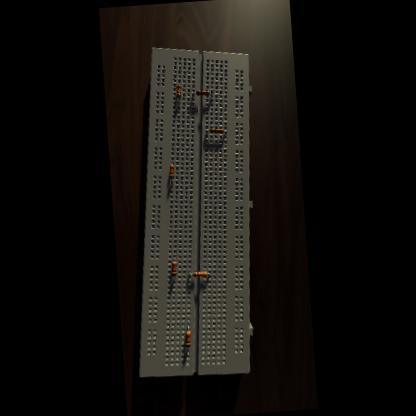breadboard: (115, 40, 271, 380)
resistor: (184, 329, 192, 346), (170, 260, 177, 275), (196, 88, 209, 96), (210, 126, 223, 134), (168, 164, 174, 178), (176, 84, 182, 98), (192, 270, 206, 276)
wire: (192, 92, 196, 96), (170, 178, 172, 183), (174, 256, 176, 260), (209, 92, 211, 96), (189, 272, 192, 274), (206, 271, 209, 273), (206, 130, 209, 132), (224, 130, 226, 133), (173, 276, 174, 278), (187, 347, 188, 349), (172, 163, 172, 164), (188, 324, 188, 330)
